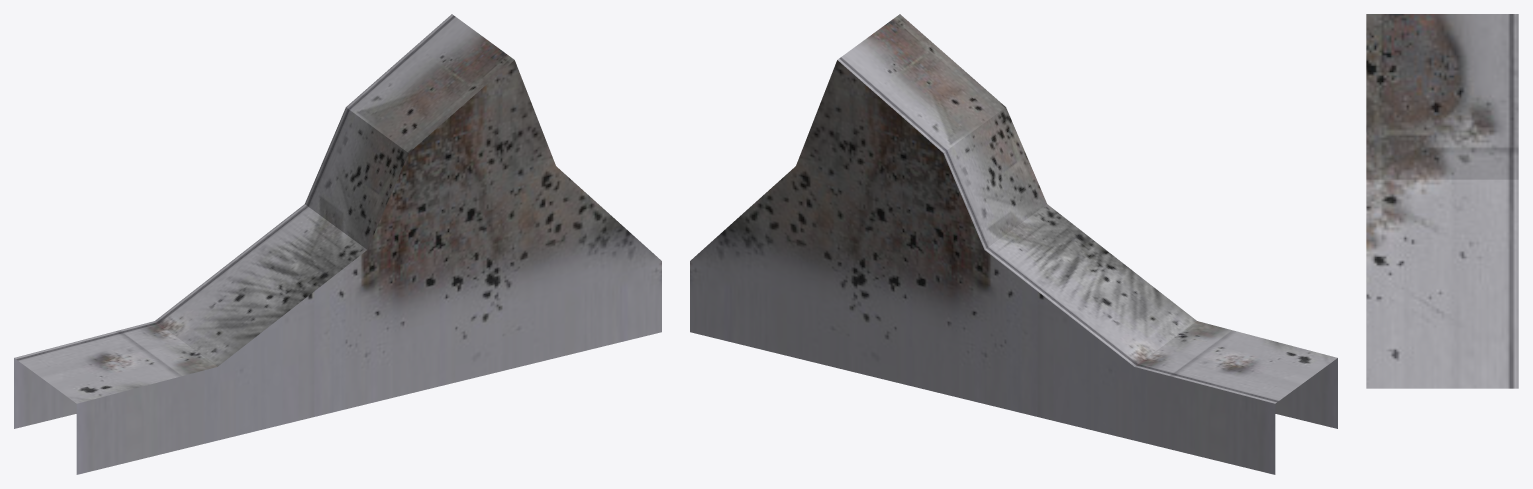
Rendered from bruch_kl1_2.obj.
3 views of the same model, side by side, from view 1: azimuth 30°, elevation 25°; view 2: azimuth 150°, elevation 25°; view 3: azimuth 270°, elevation 25° (orthographic). The views are drawn at different scales.
Visible parts, largest first — view 1: polySurface138 polySurface175 polySurface183 polySurface184 poly; view 2: polySurface138 polySurface175 polySurface183 polySurface184 poly; view 3: polySurface138 polySurface175 polySurface183 polySurface184 poly.
Part boxes in pixels (x1,y1,x2,y2): polySurface138 polySurface175 polySurface183 polySurface184 poly: (14, 14, 661, 474); polySurface138 polySurface175 polySurface183 polySurface184 poly: (690, 14, 1337, 474); polySurface138 polySurface175 polySurface183 polySurface184 poly: (1366, 14, 1518, 388).
Bounding box in the file's own units: 0.9935 × 0.5 × 0.1845.
1 material, 1 textured.
